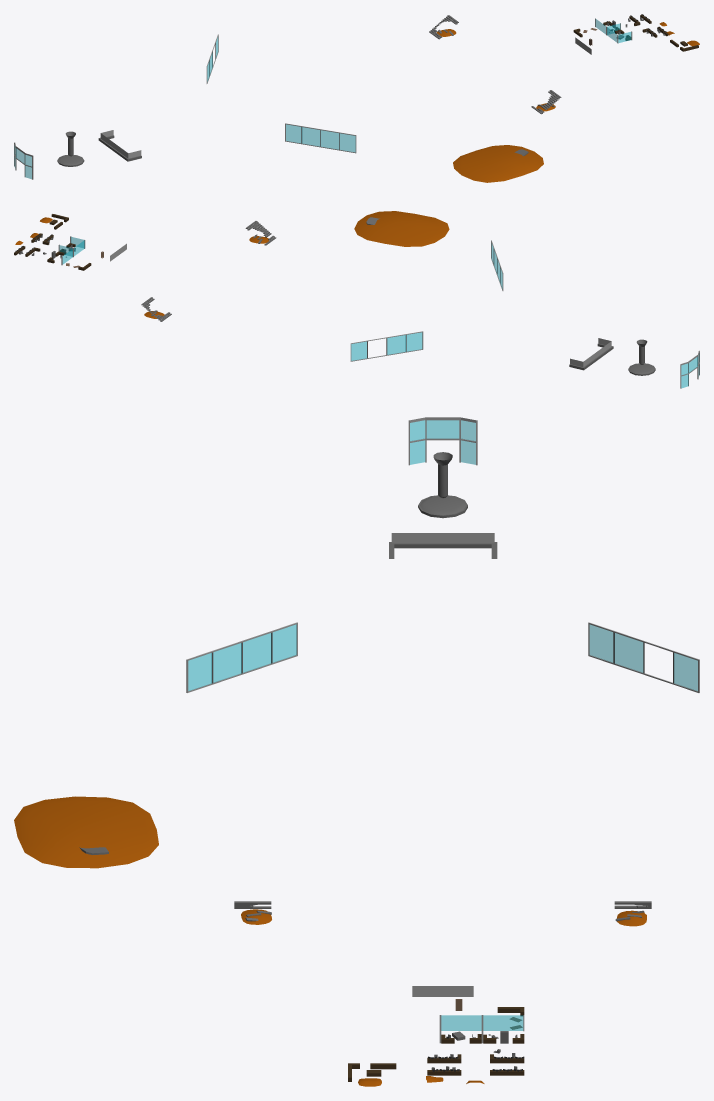
Rendered from Props 1.fbx.
3 renders of one model, top to bottom at view 1: azimuth 30°, elevation 25°; view 2: azimuth 150°, elevation 25°; view 3: azimuth 270°, elevation 25°, orthographic. The views are drawn at different scales.
Visible parts, largest first — view 1: polySurface4863; view 2: polySurface4863; view 3: polySurface4863.
Boxes of the visible parts, bbox=[...] form: polySurface4863: bbox=[14, 14, 699, 182]; polySurface4863: bbox=[14, 211, 699, 388]; polySurface4863: bbox=[14, 417, 699, 1086].
Bounding box in the file's own units: 26.76 × 1.71 × 12.99.
